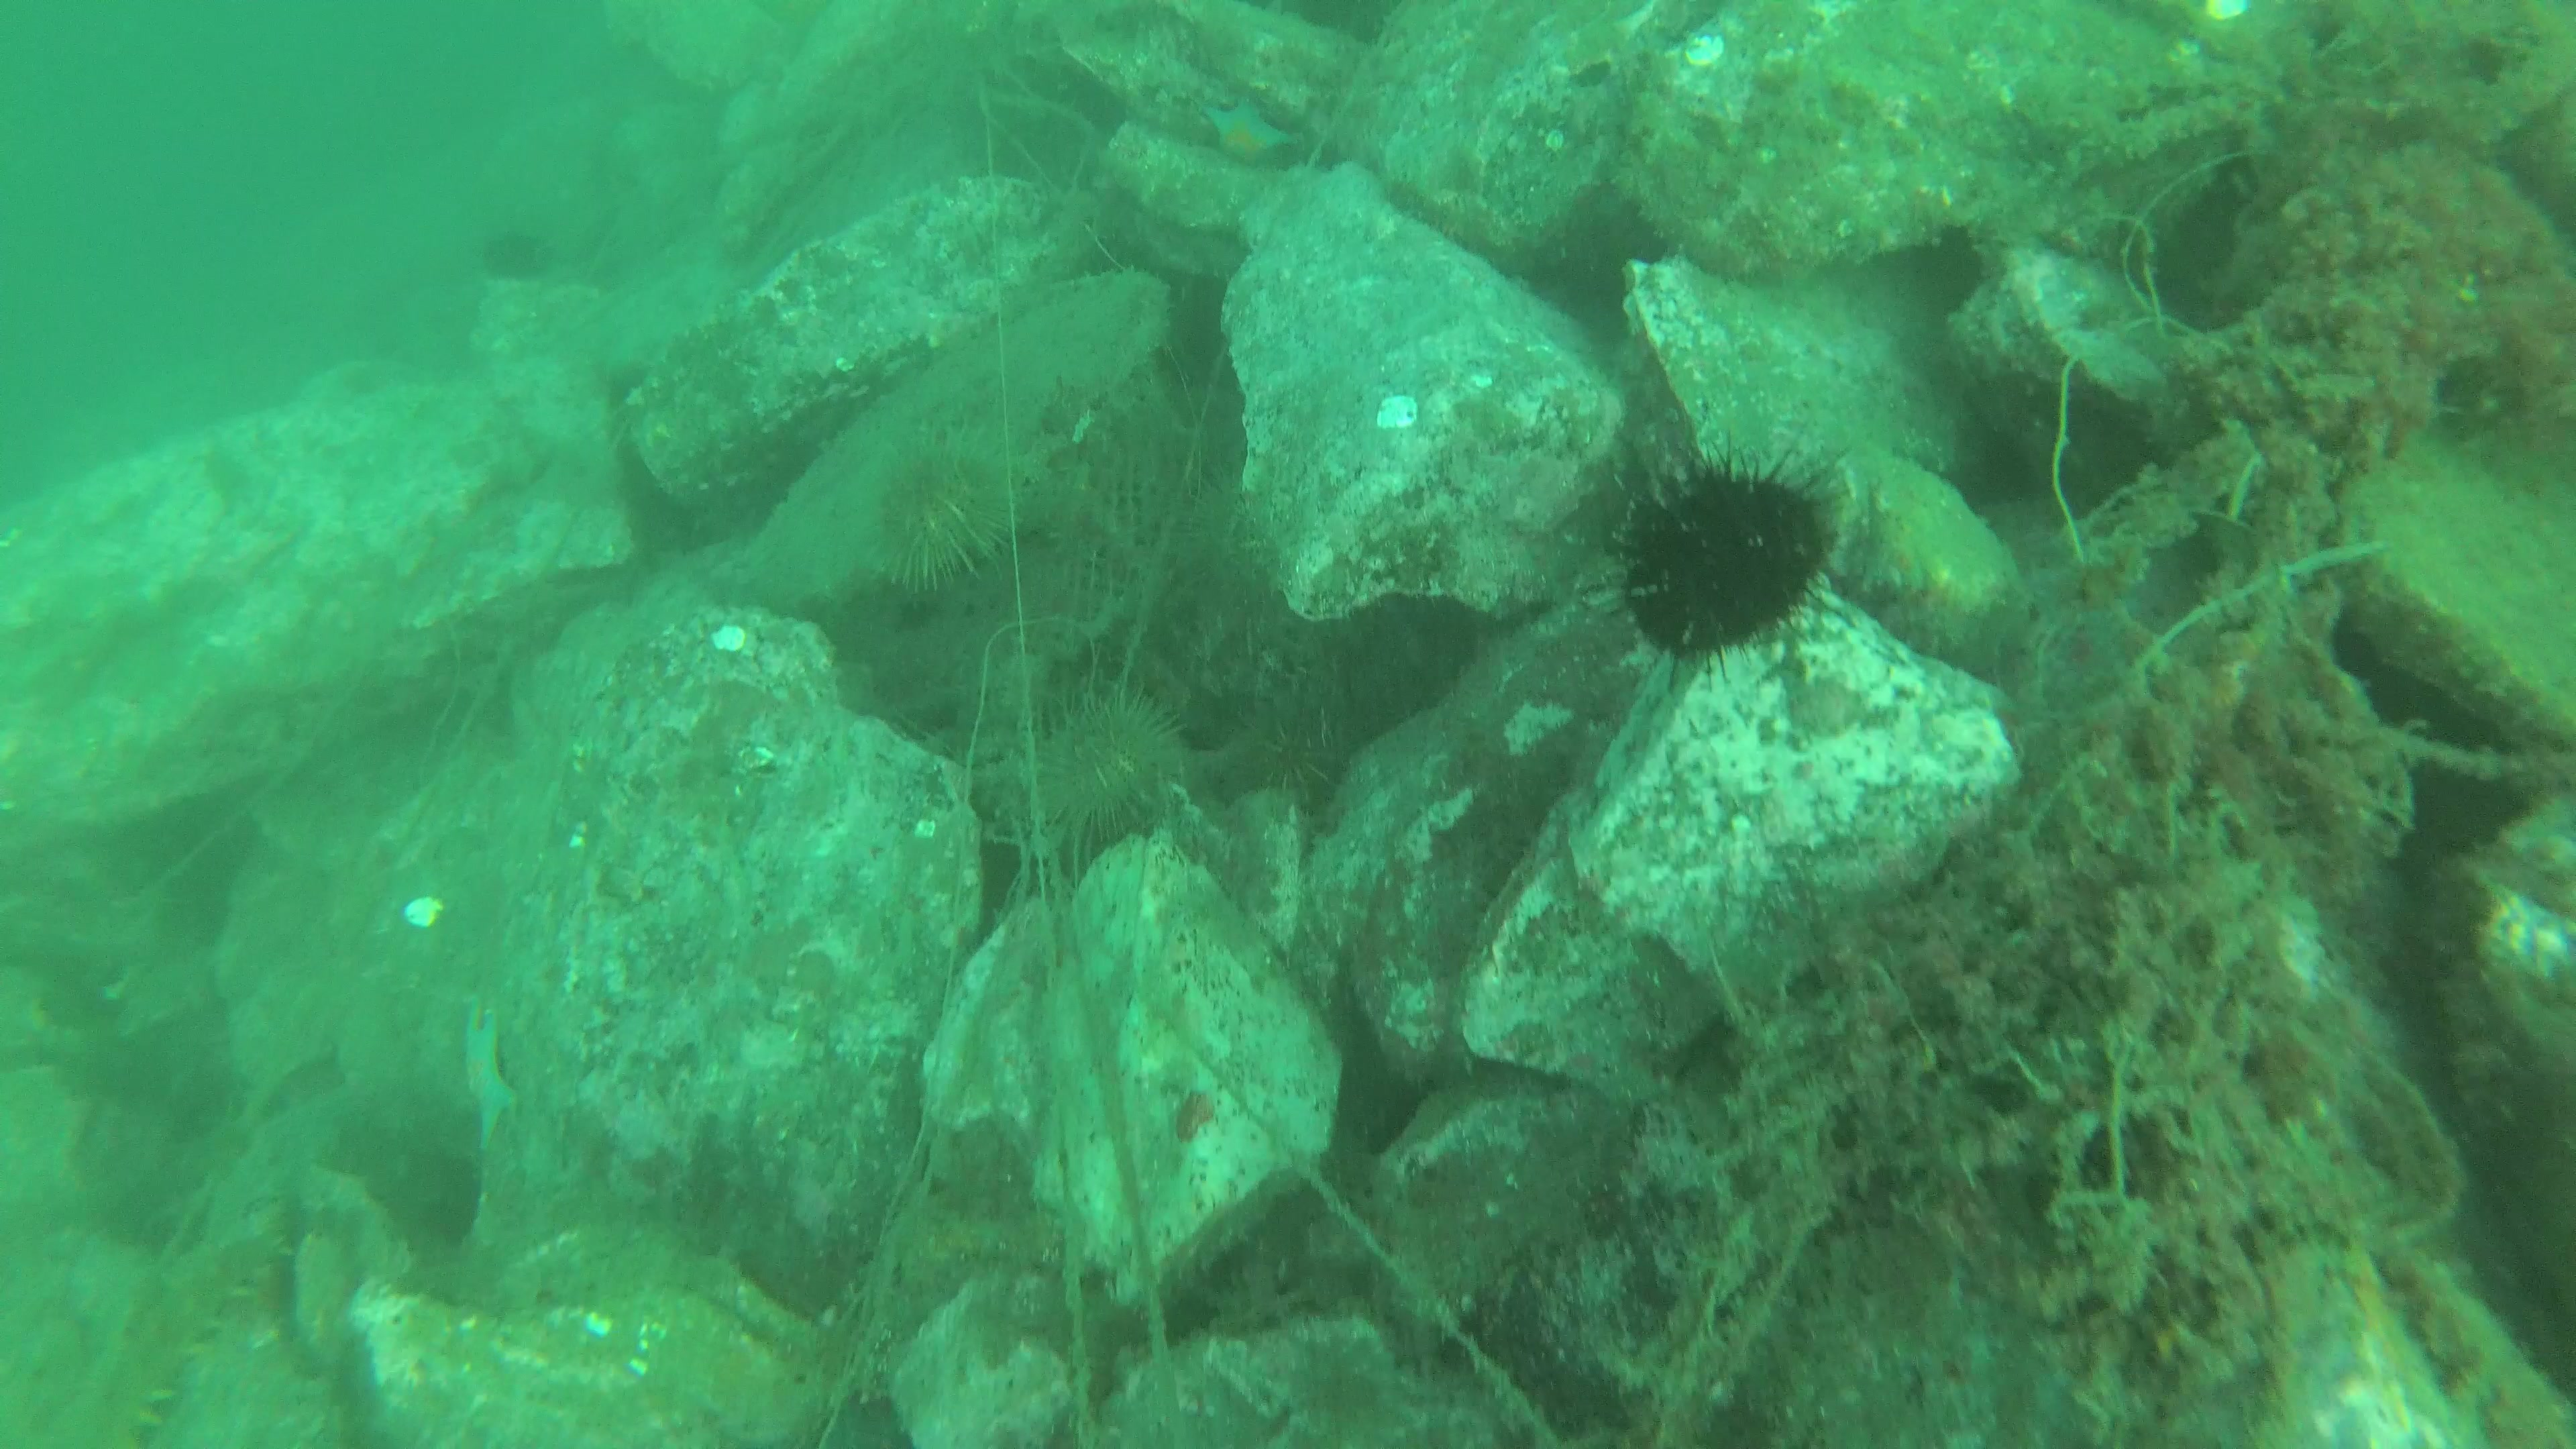echinus: (1603, 428, 1844, 665), (962, 679, 1224, 863), (835, 433, 1039, 600), (1249, 709, 1339, 814), (464, 219, 561, 297)
holothurian: (62, 1226, 287, 1449)
starfish: (442, 1005, 525, 1155), (1198, 85, 1292, 165)
